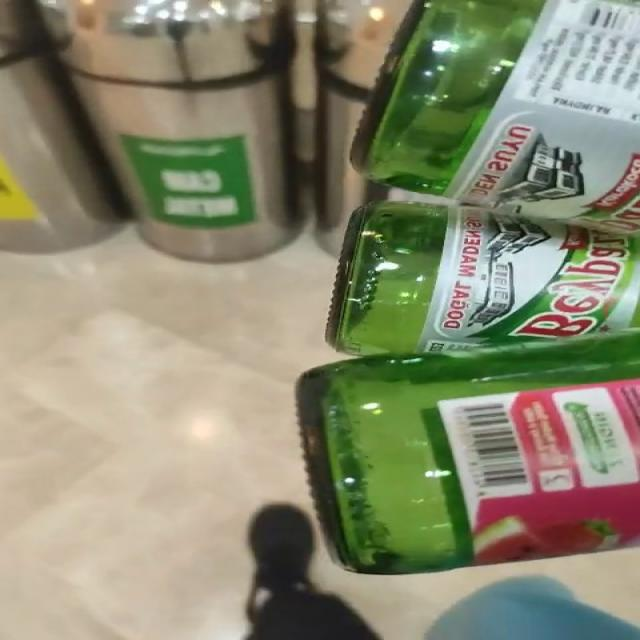glass: (296, 0, 640, 575)
